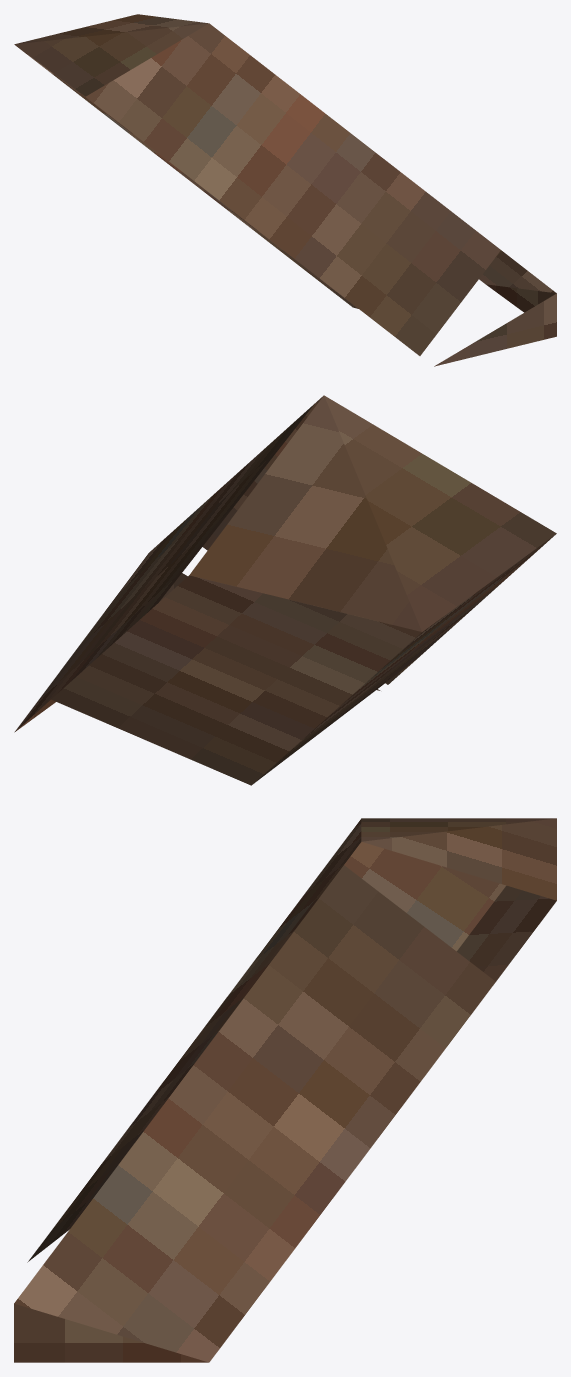
The model's file is pine_branch_45_diagonal.obj.
3 renders of one model, top to bottom at view 1: azimuth 30°, elevation 25°; view 2: azimuth 150°, elevation 25°; view 3: azimuth 270°, elevation 25°, orthographic. The views are drawn at different scales.
Visible parts, largest first — view 1: cube; view 2: cube; view 3: cube.
Boxes of the visible parts, box(x1,y1,x2,y2) form: cube: box(14, 14, 556, 366); cube: box(14, 395, 556, 785); cube: box(14, 818, 556, 1362).
Size of the model in its own units: 1.56 by 1.19 by 1.56.
